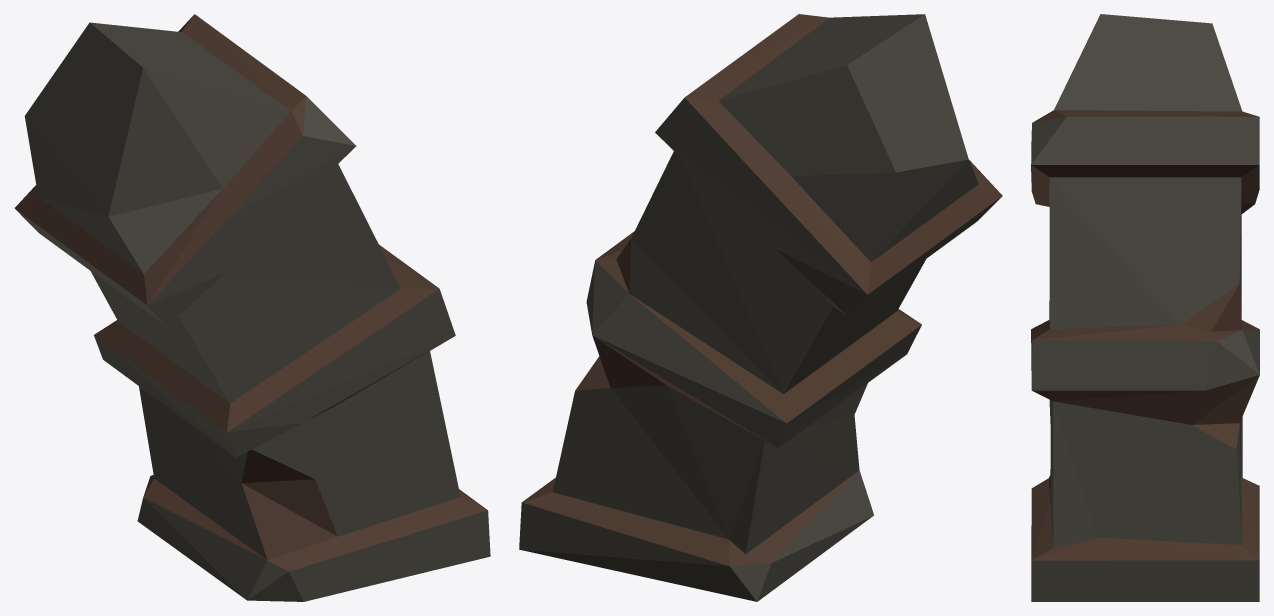
3 views of the same model, side by side, from view 1: azimuth 30°, elevation 25°; view 2: azimuth 150°, elevation 25°; view 3: azimuth 270°, elevation 25° (orthographic). The views are drawn at different scales.
Visible parts, largest first — view 1: SM_Prop_Pillar_Arch_Broken_Moss_01; view 2: SM_Prop_Pillar_Arch_Broken_Moss_01; view 3: SM_Prop_Pillar_Arch_Broken_Moss_01.
Boxes of the visible parts, x1,y1,x2,y2 form: SM_Prop_Pillar_Arch_Broken_Moss_01: [14, 14, 490, 601]; SM_Prop_Pillar_Arch_Broken_Moss_01: [519, 14, 1002, 601]; SM_Prop_Pillar_Arch_Broken_Moss_01: [1031, 14, 1259, 601].
Size of the model in its own units: 0.61 by 0.8866 by 0.3998.
Materials: 1 (1 with a texture image).
